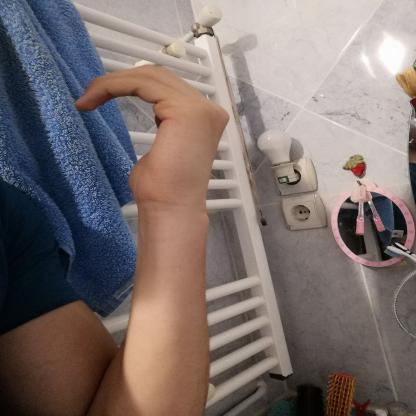HAA: (63, 56, 255, 221)
